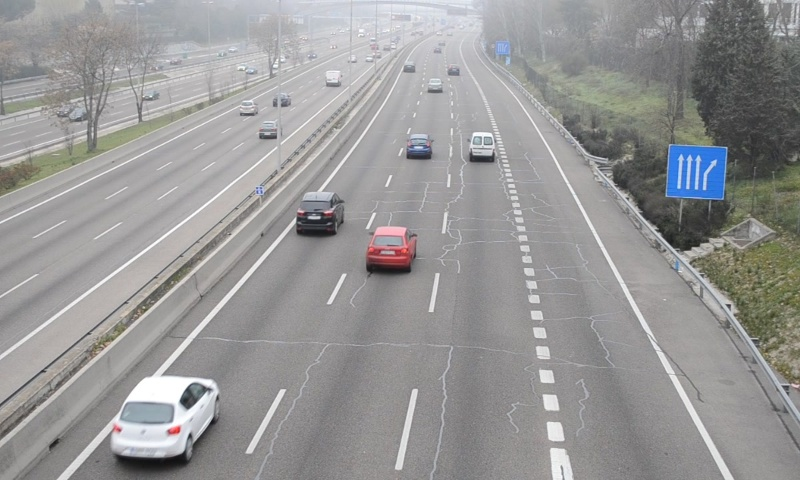car: (110, 376, 219, 460), (366, 226, 415, 269), (295, 192, 342, 234), (405, 134, 433, 160), (427, 78, 444, 94)
van: (469, 132, 496, 162)
